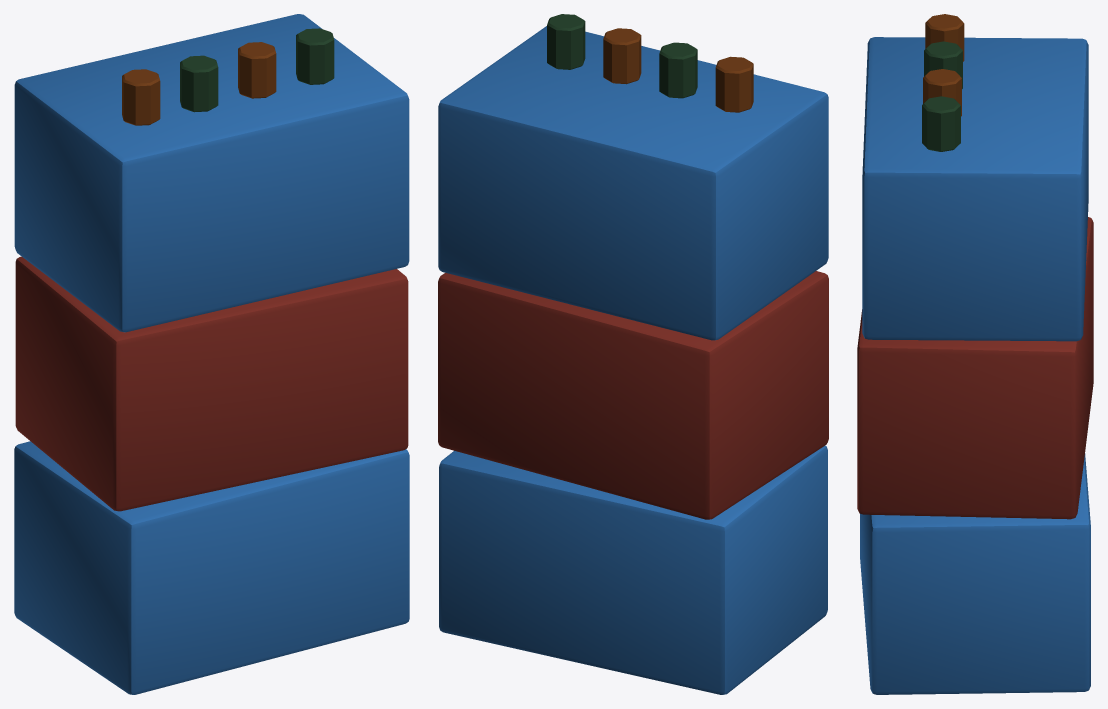
The model's file is mae_crates.glb.
The picture shows the model from 3 angles, left to right: view 1: azimuth 30°, elevation 25°; view 2: azimuth 150°, elevation 25°; view 3: azimuth 270°, elevation 25°; orthographic projection. The views are drawn at different scales.
Parts seen in each view (by area): view 1: mae_crates; view 2: mae_crates; view 3: mae_crates.
Part boxes in pixels (box(x1,y1,x2,y2)): mae_crates: box(14, 14, 409, 694); mae_crates: box(438, 14, 828, 694); mae_crates: box(857, 14, 1093, 694).
Size of the model in its own units: 0.5159 by 0.96 by 0.3645.
